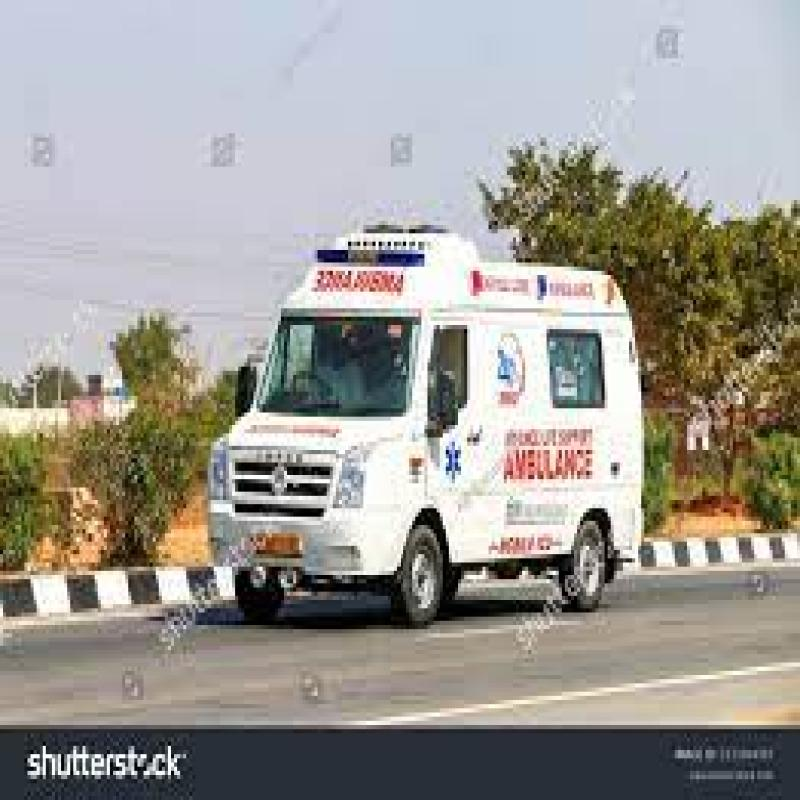AmbulanceSiren: (306, 242, 437, 279)
ambulance: (195, 214, 652, 636)
